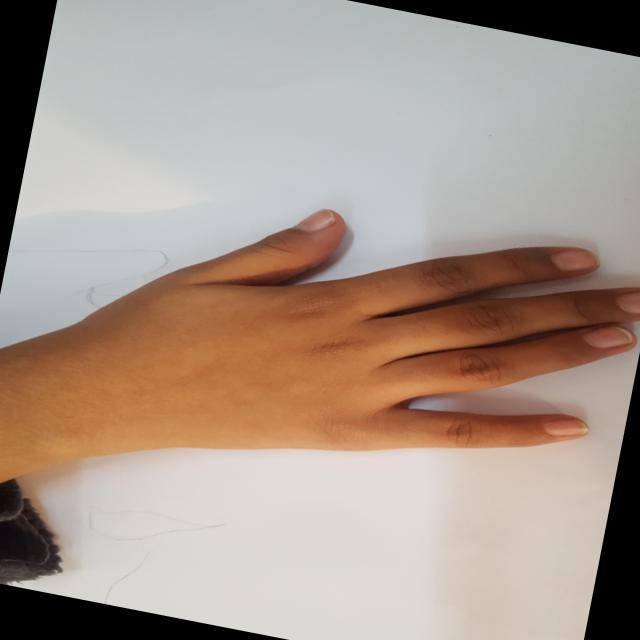Nail: (581, 324, 634, 349), (549, 248, 598, 270), (294, 208, 336, 231), (544, 418, 589, 435), (614, 291, 640, 313)
